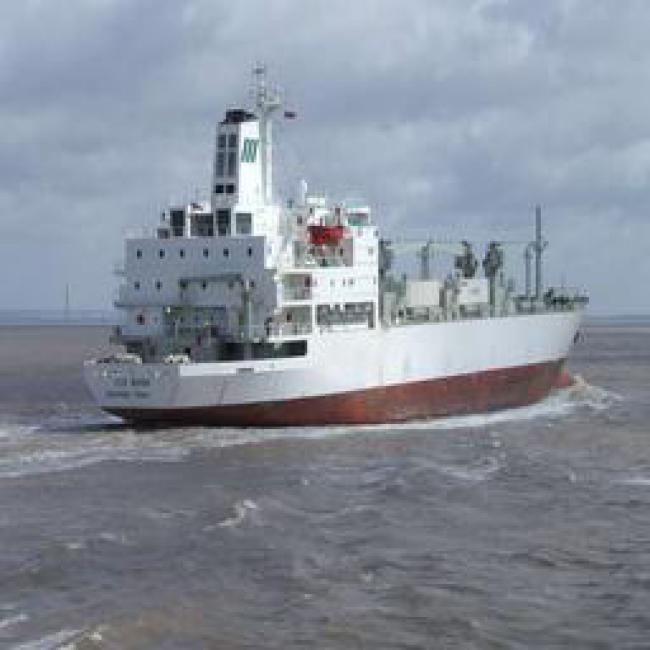Ship: (73, 130, 590, 425)
